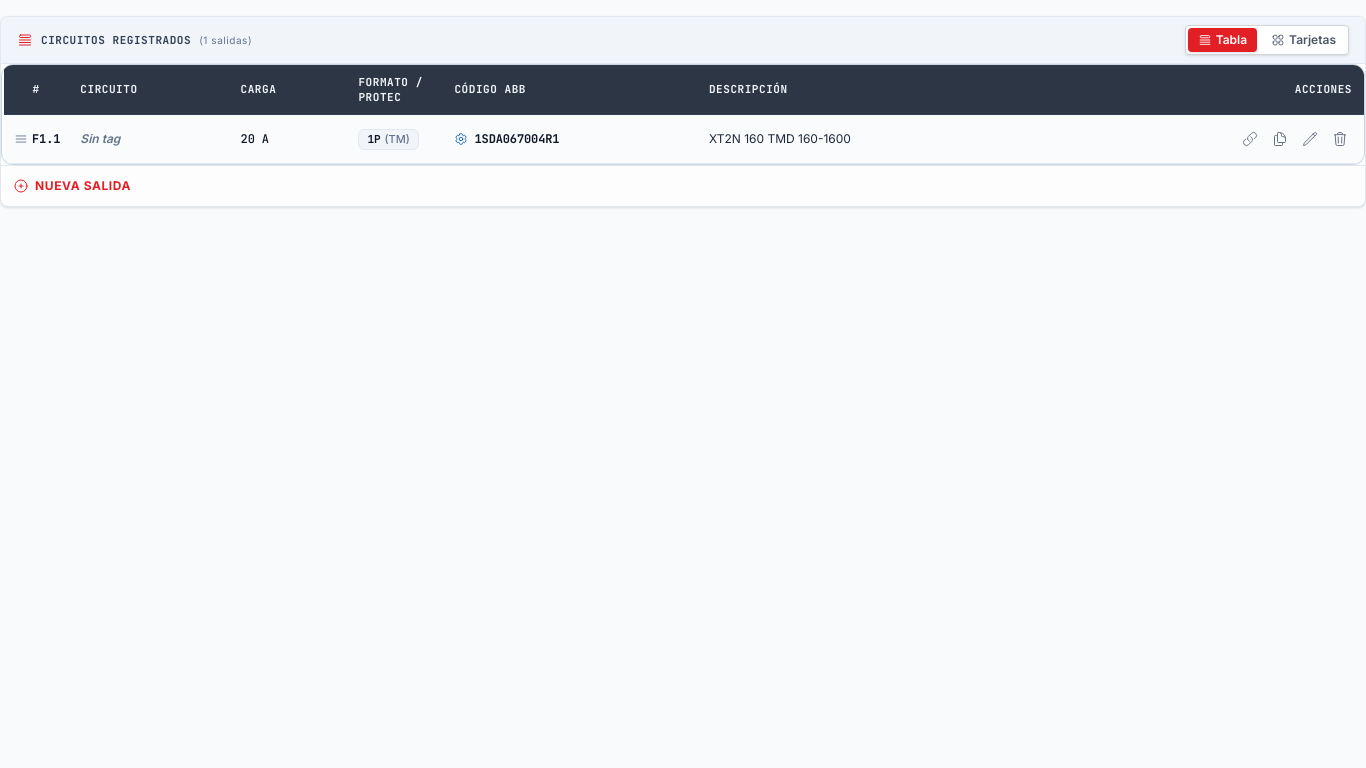
Test: SeccionBlock › closes the edit modal with Escape without saving directly
Click the button named "editar salida 20 a" at (1310, 139), box [1298,127,1322,151]
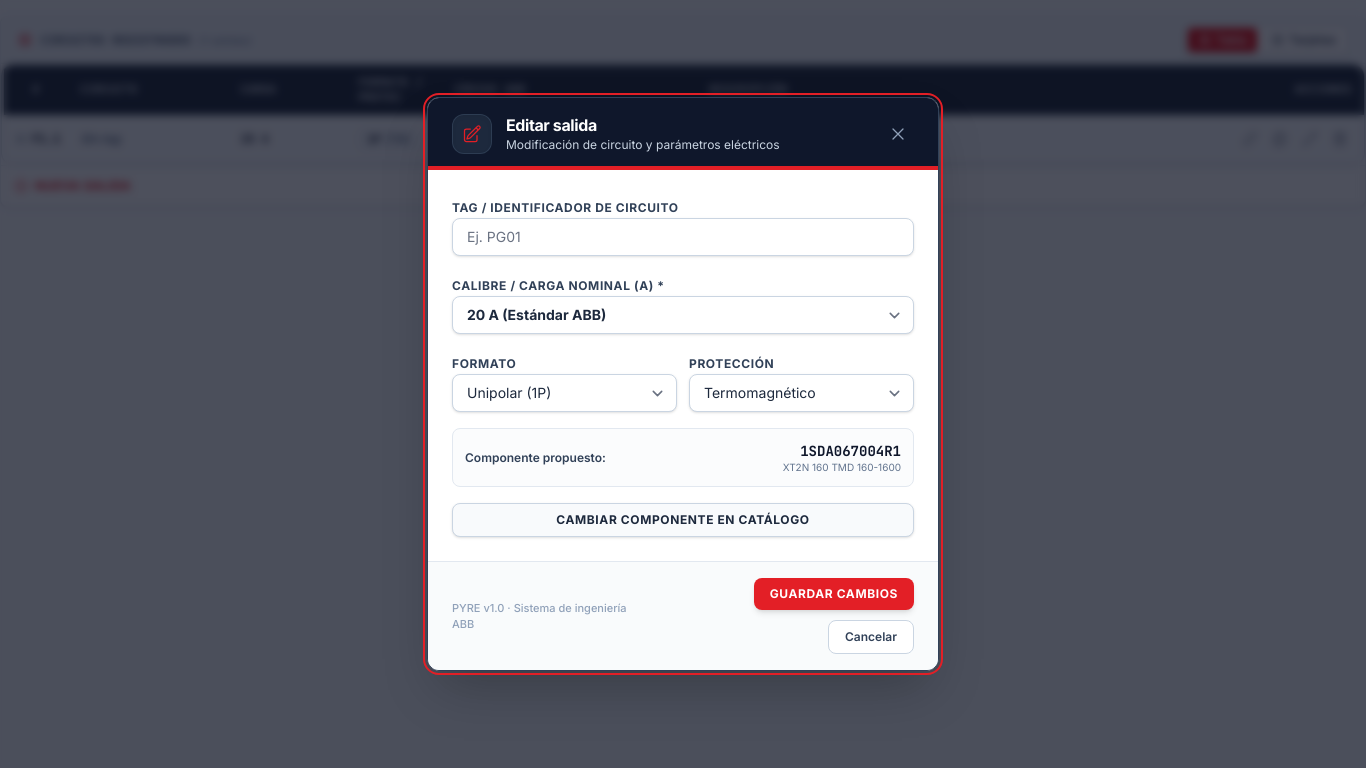
Now the dialog is shown, box [427,97,939,671]
Press Escape
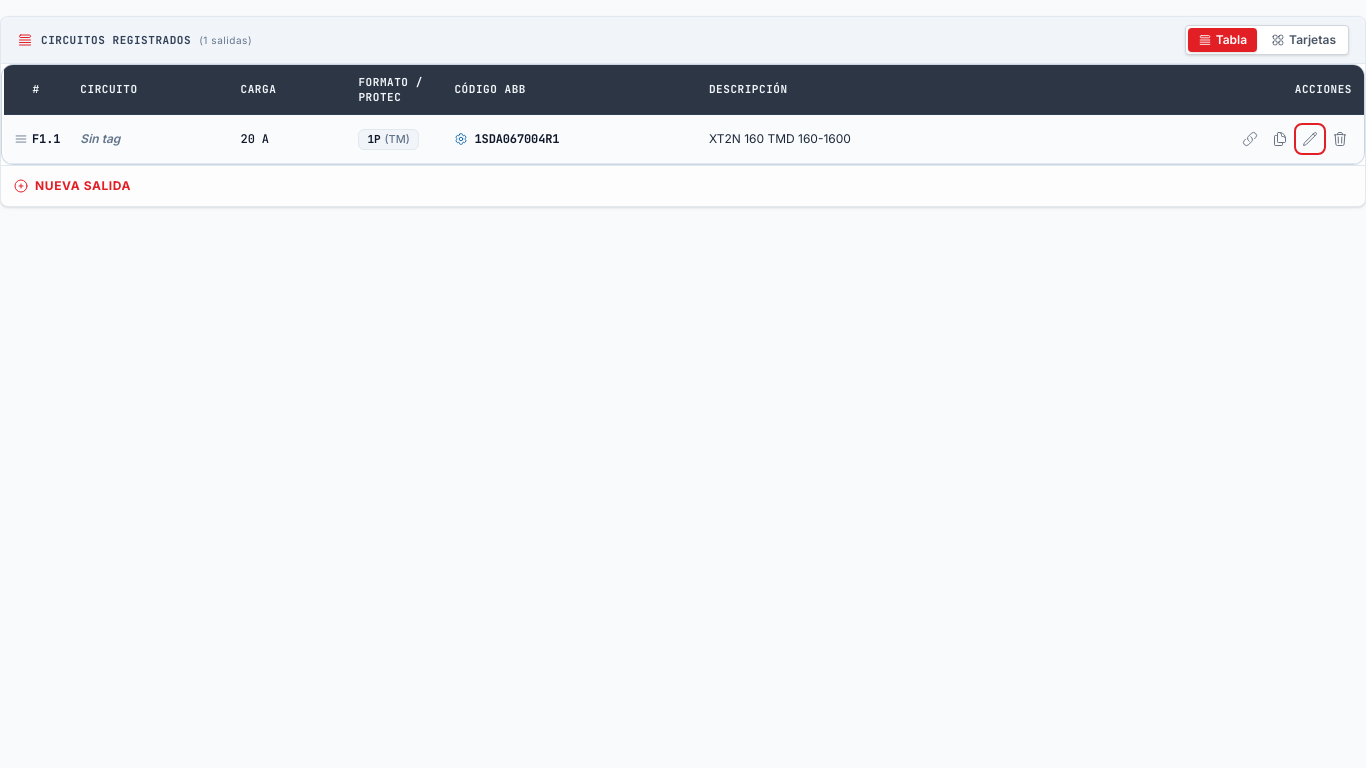
Now the dialog is gone
